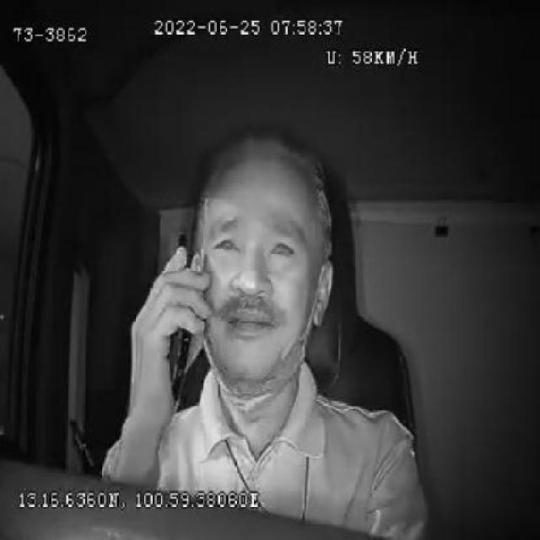phone: (166, 230, 195, 409)
